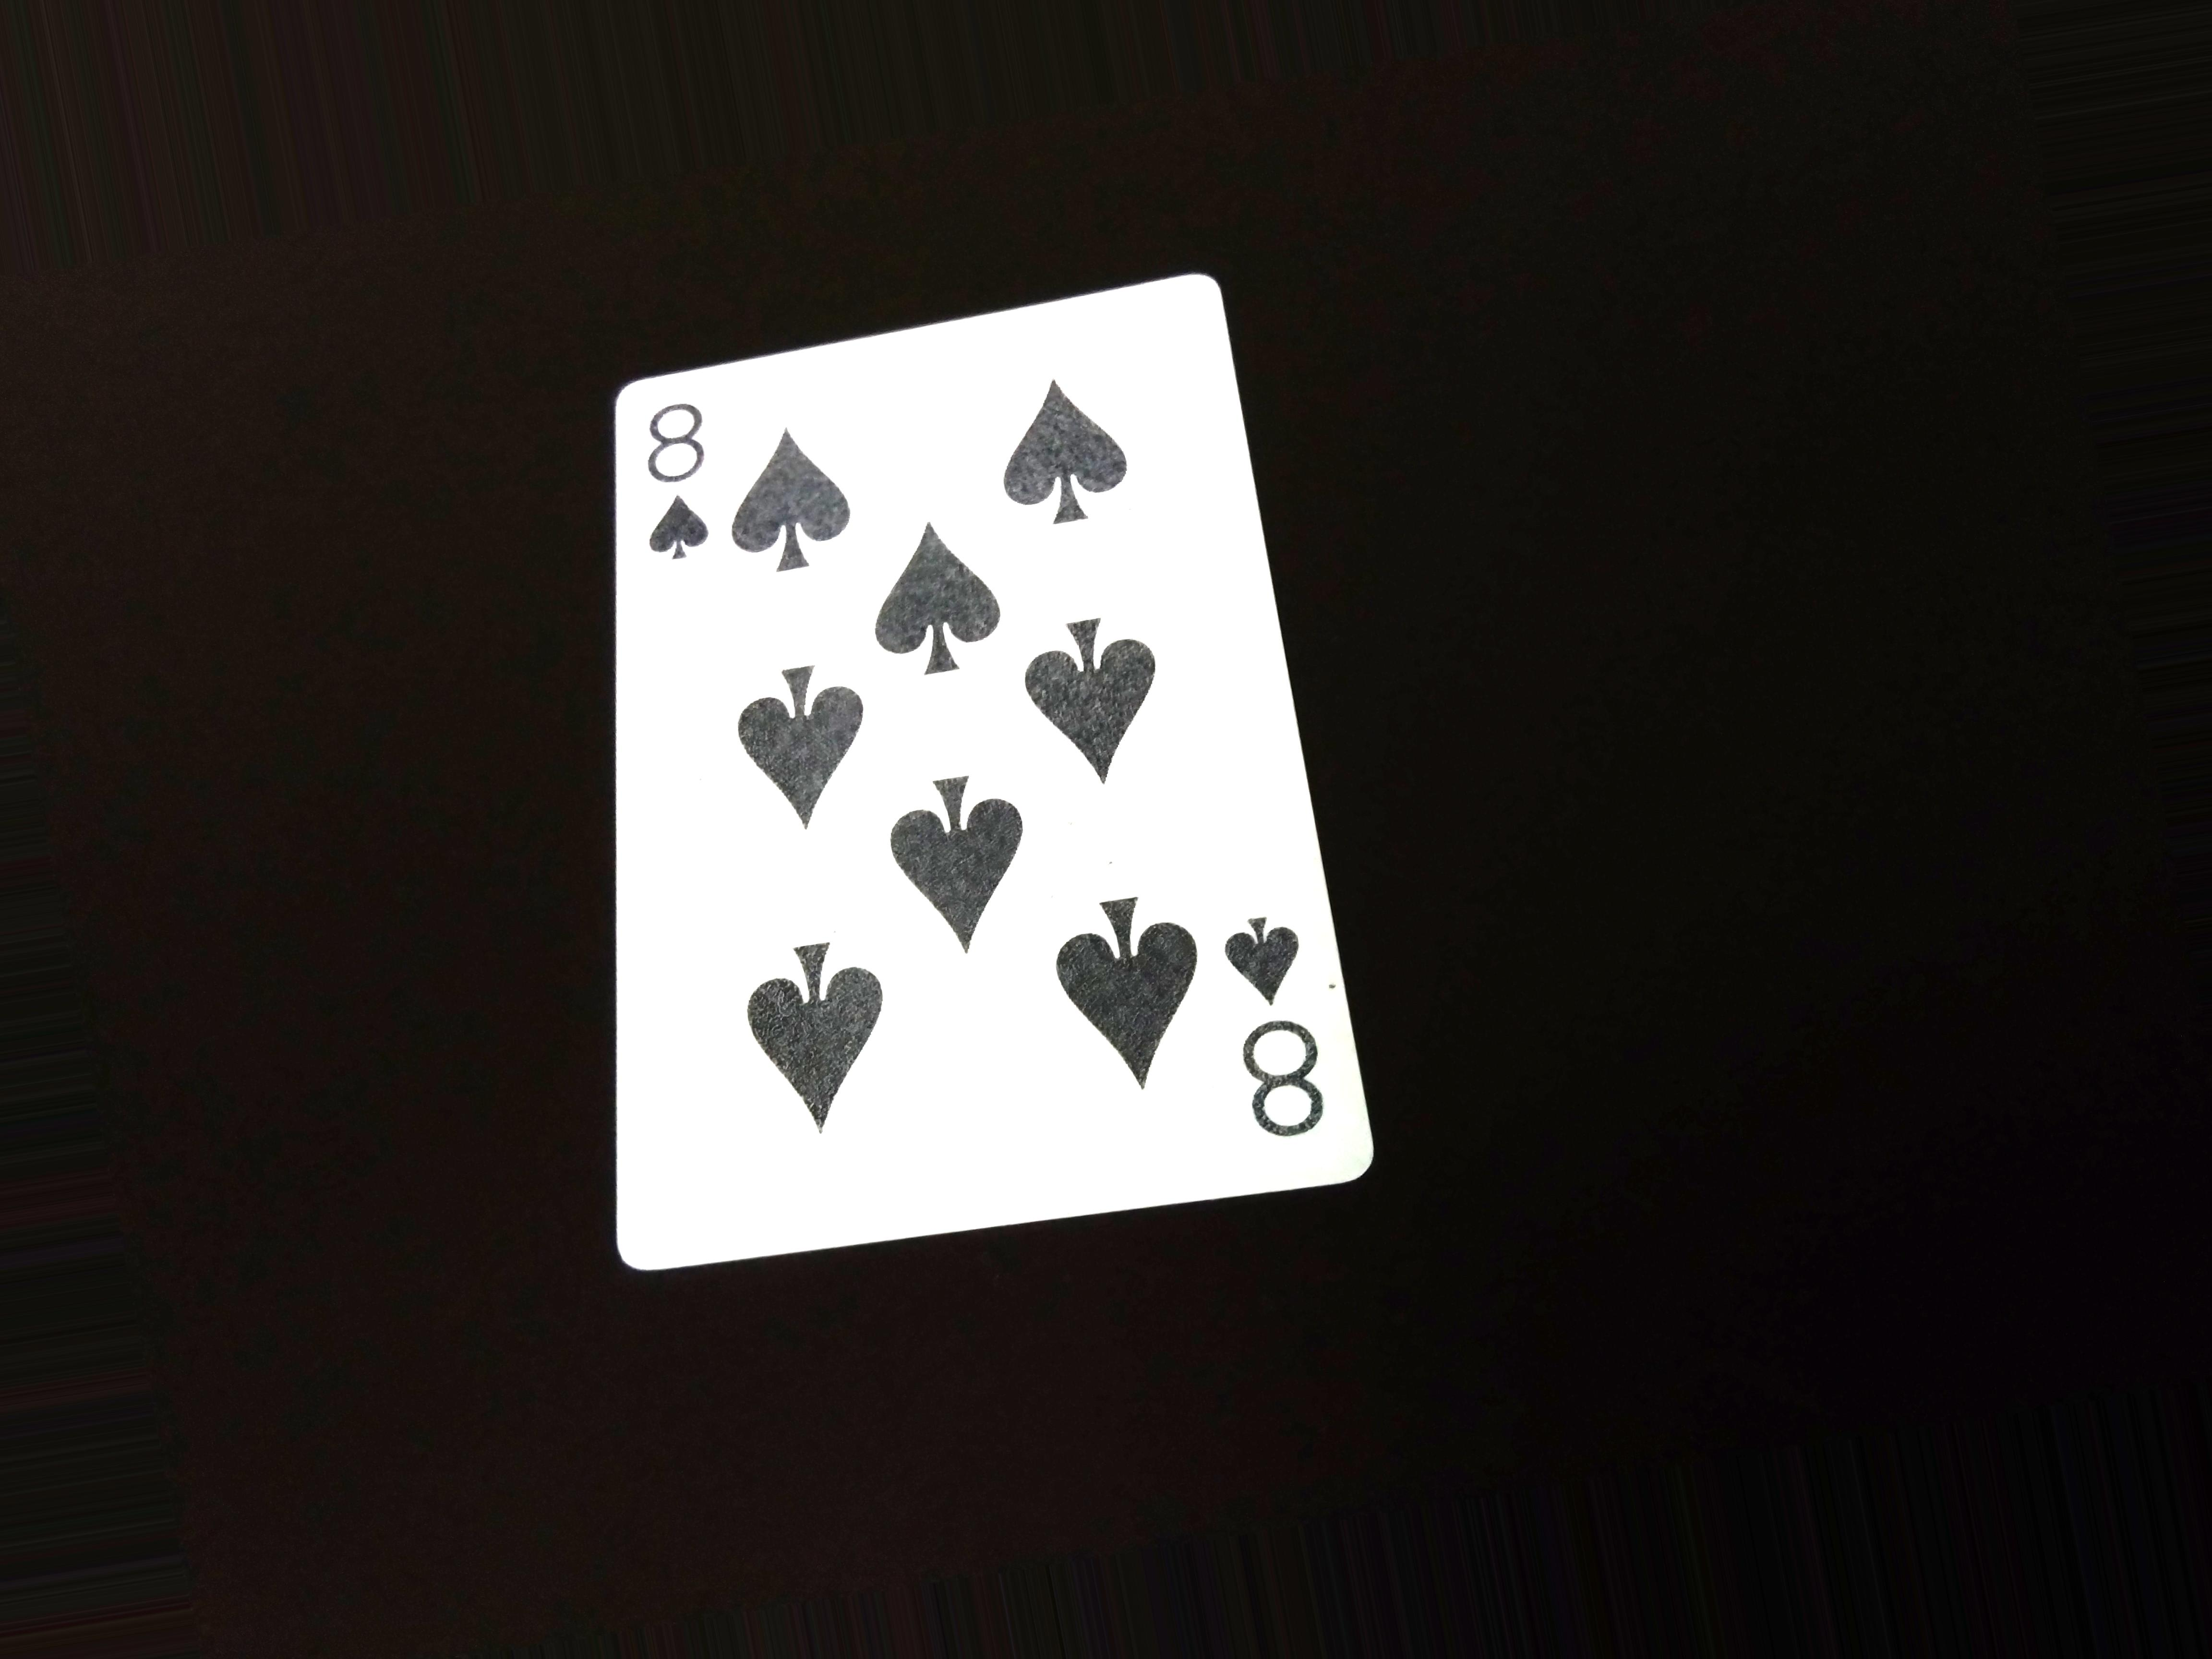8S: (643, 376, 737, 596)
